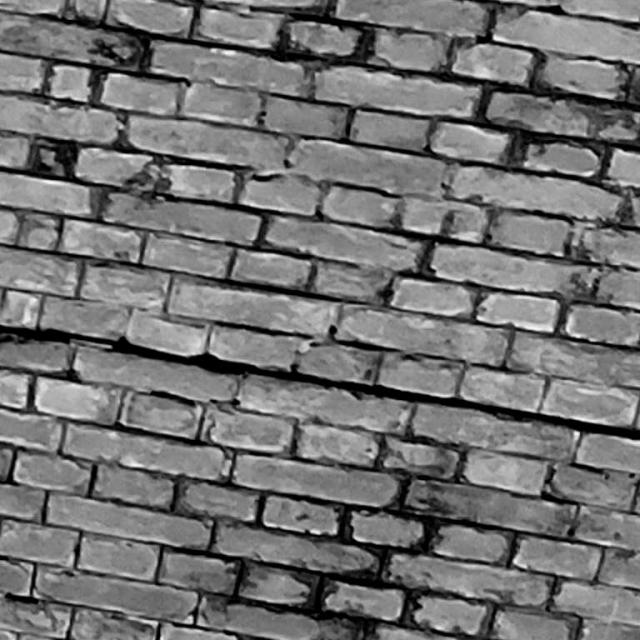crack: (1, 324, 640, 441)
